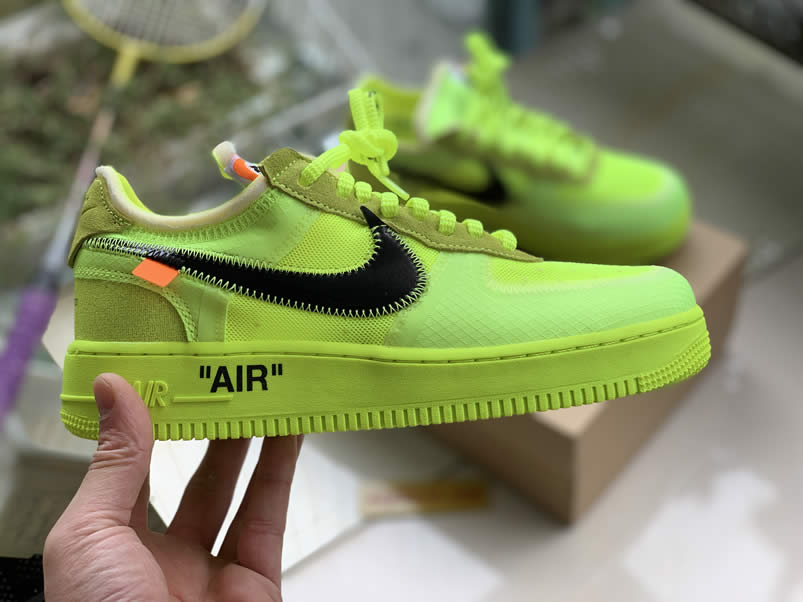Air Force One Volt: (47, 102, 745, 456)
